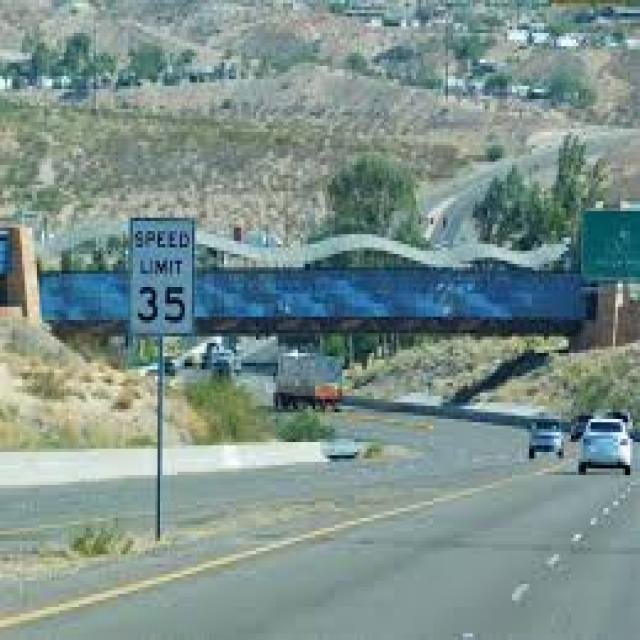speedLimit35: (130, 216, 190, 335)
